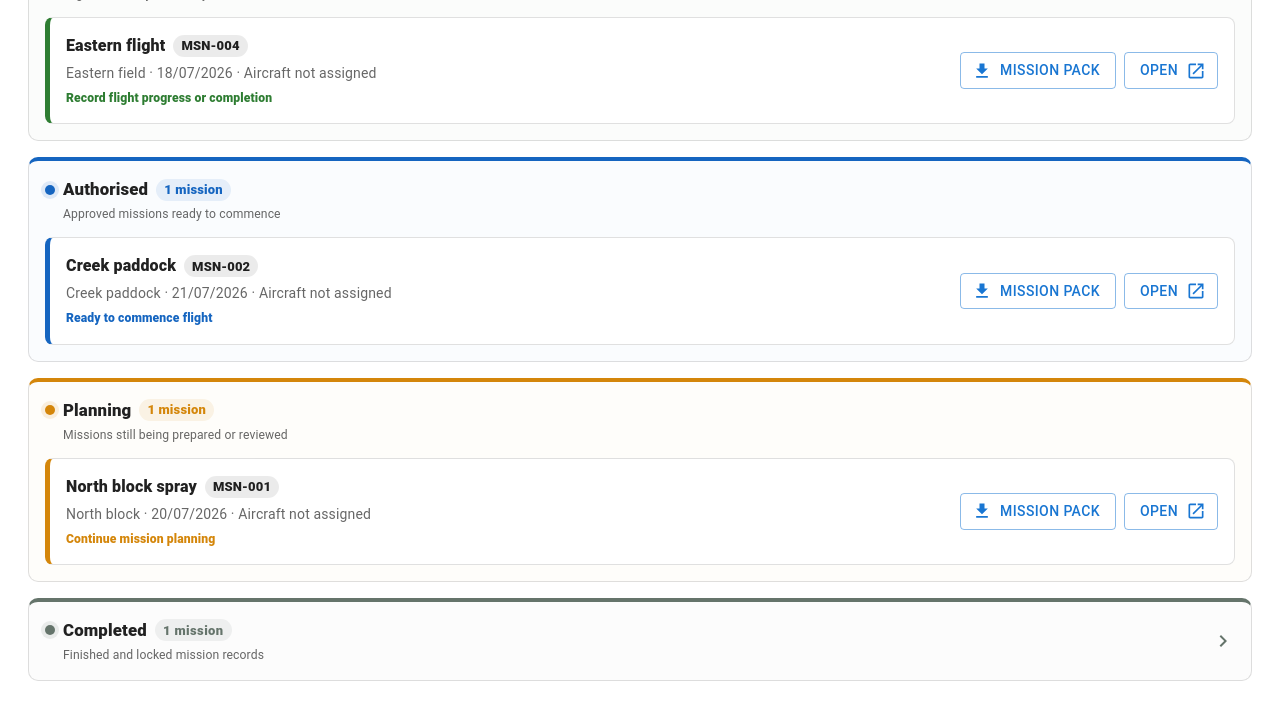
Test case: MissionRegister › expands completed missions on request
(page scrolled)
Click the button named "Completed, 1 mission, collapsed": (105, 630) x1=45 y1=618 x2=1235 y2=664
(page scrolled)
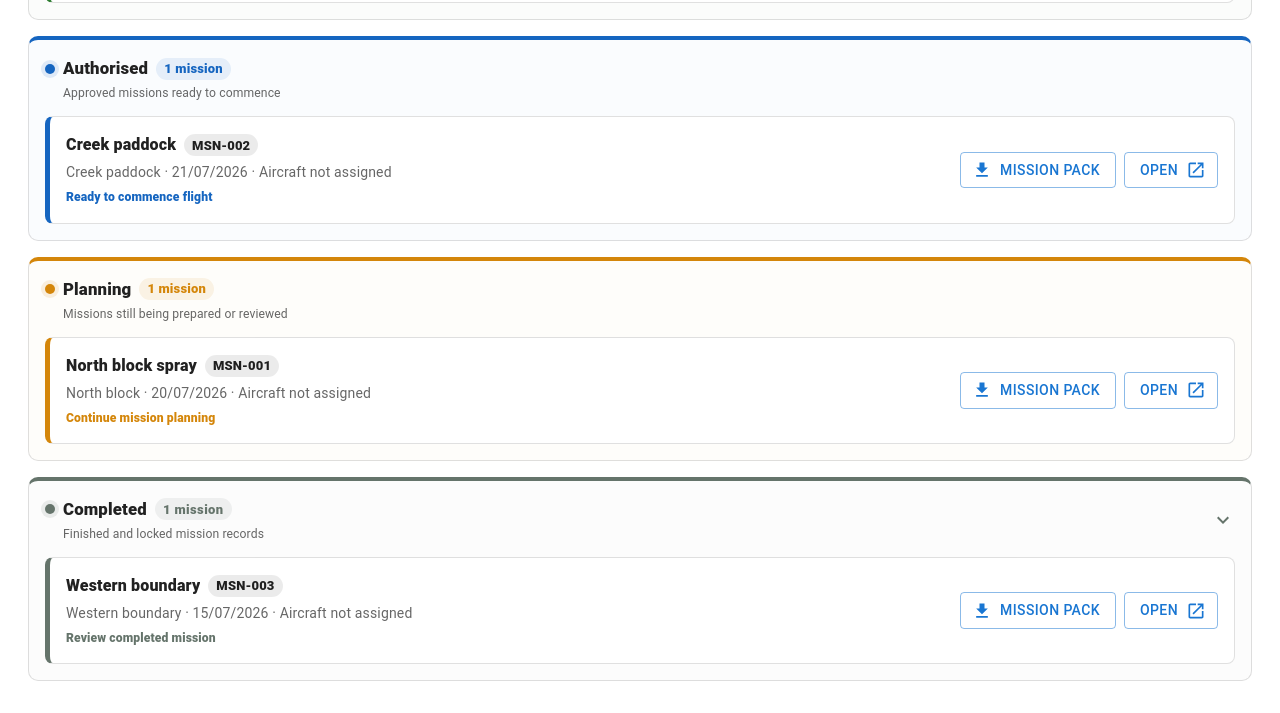
Now the text "Western boundary" is shown, box x1=66 y1=574 x2=200 y2=598
Now the text "Review completed mission" is shown, box x1=66 y1=631 x2=216 y2=645
